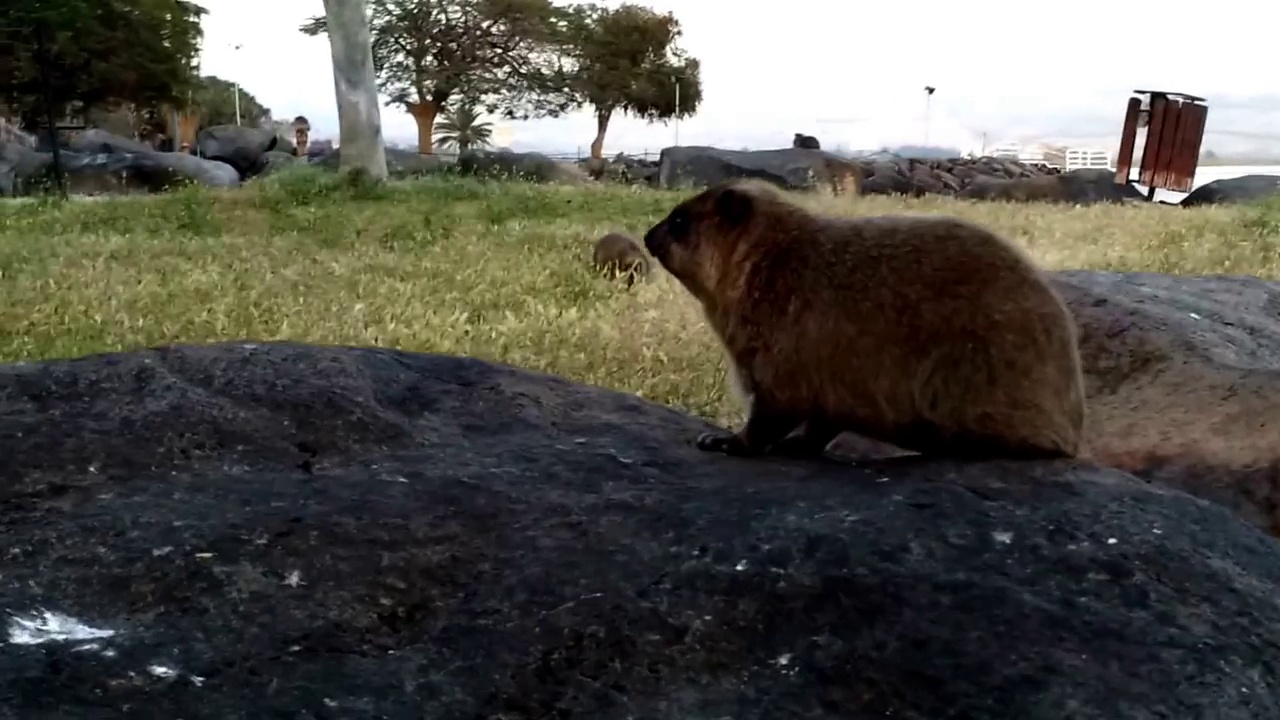Rock Hyrex: (640, 183, 1088, 478), (588, 233, 653, 289), (790, 130, 821, 153)
